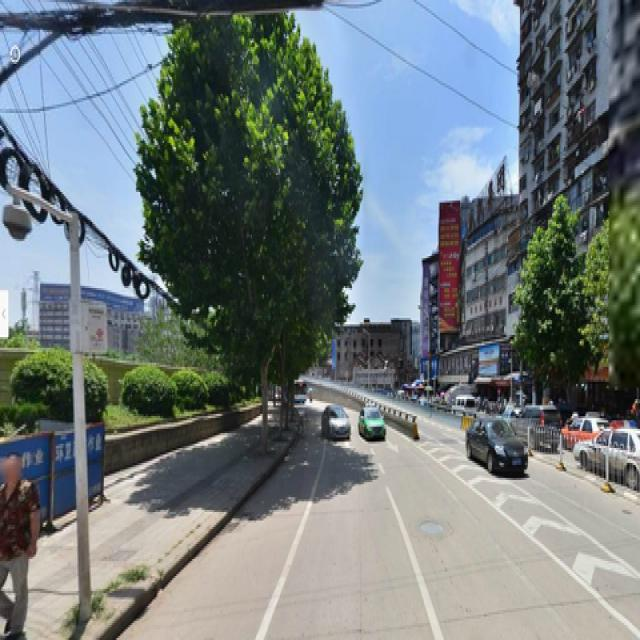meta: (190, 34, 314, 410)
